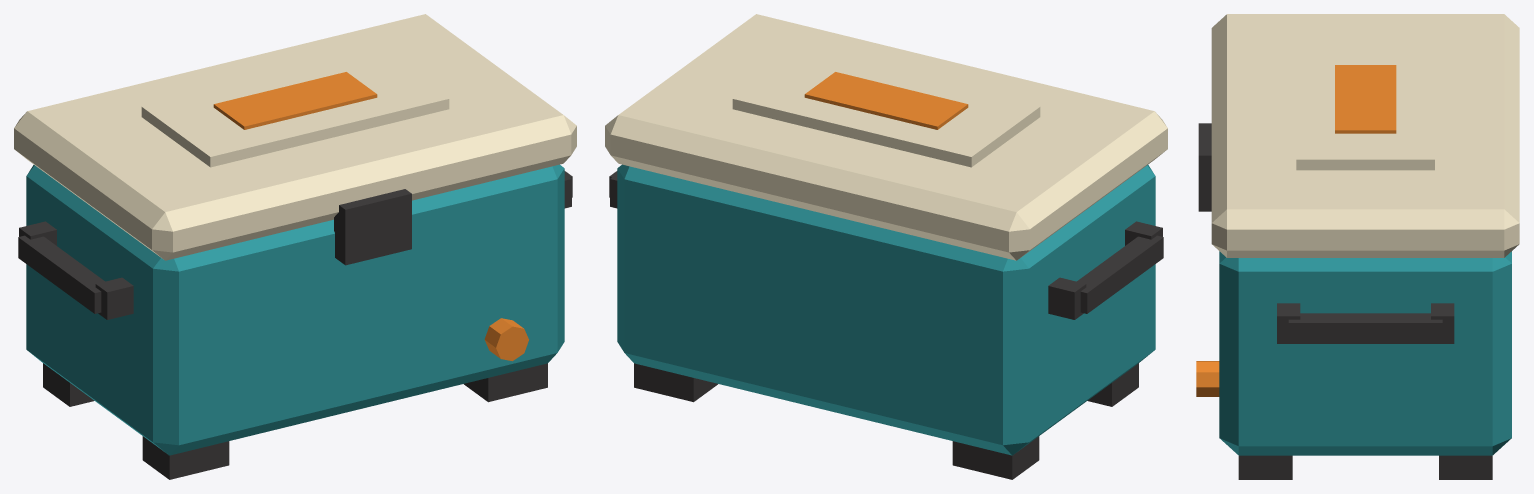
File: cooler.glb
The picture shows the model from 3 angles, left to right: view 1: azimuth 30°, elevation 25°; view 2: azimuth 150°, elevation 25°; view 3: azimuth 270°, elevation 25°; orthographic projection.
Parts seen in each view (by area): view 1: cooler; view 2: cooler; view 3: cooler.
Part boxes in pixels (x1=…): cooler: x1=14, y1=14, x2=576, y2=479; cooler: x1=605, y1=14, x2=1167, y2=479; cooler: x1=1196, y1=14, x2=1519, y2=479.
Size of the model in its own units: 0.72 by 0.415 by 0.42.
